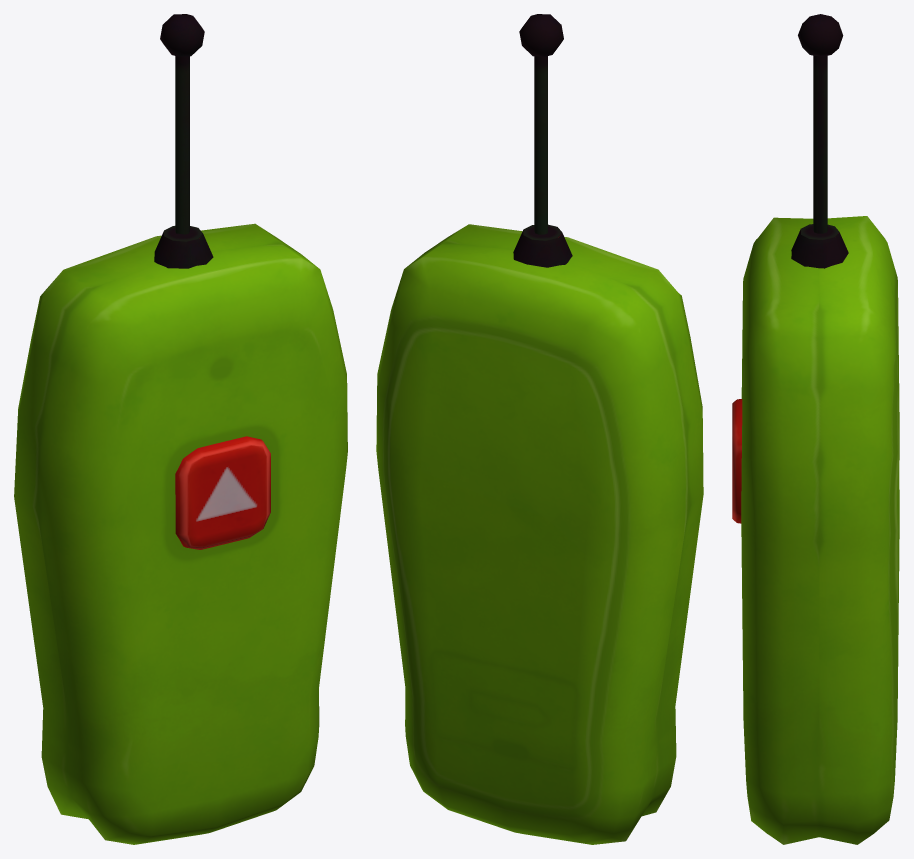
The model's file is Wealth_ng_Remotecontrol.FBX.
3 renders of one model, left to right at view 1: azimuth 30°, elevation 25°; view 2: azimuth 150°, elevation 25°; view 3: azimuth 270°, elevation 25°, orthographic.
Parts seen in each view (by area): view 1: Wealth_ng_Remotecontrolmm; view 2: Wealth_ng_Remotecontrolmm; view 3: Wealth_ng_Remotecontrolmm.
Part boxes in pixels (x1,y1,x2,y2): Wealth_ng_Remotecontrolmm: (14, 14, 347, 844); Wealth_ng_Remotecontrolmm: (376, 14, 703, 844); Wealth_ng_Remotecontrolmm: (732, 14, 899, 844).
Size of the model in its own units: 9.81 by 25.24 by 4.79.
1 material, 1 textured.
